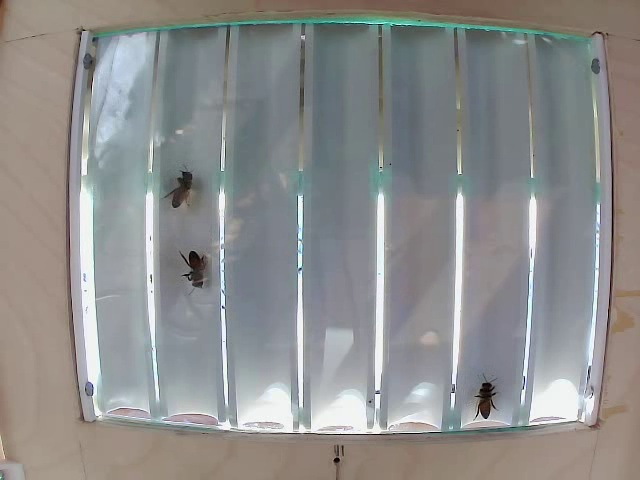bee: (151, 163, 210, 217), (475, 367, 516, 421), (176, 247, 212, 288)
